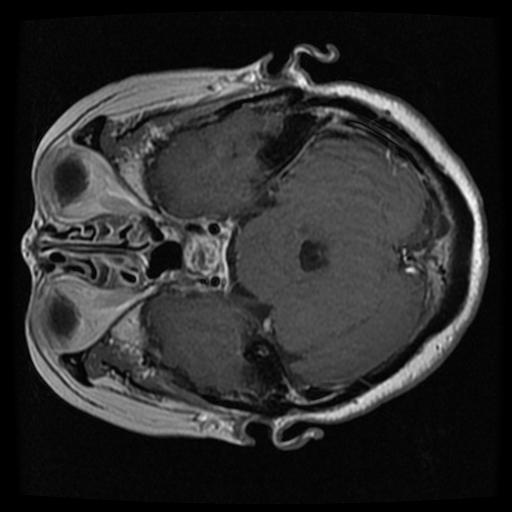pituitary tumour: (183, 235, 217, 275)
